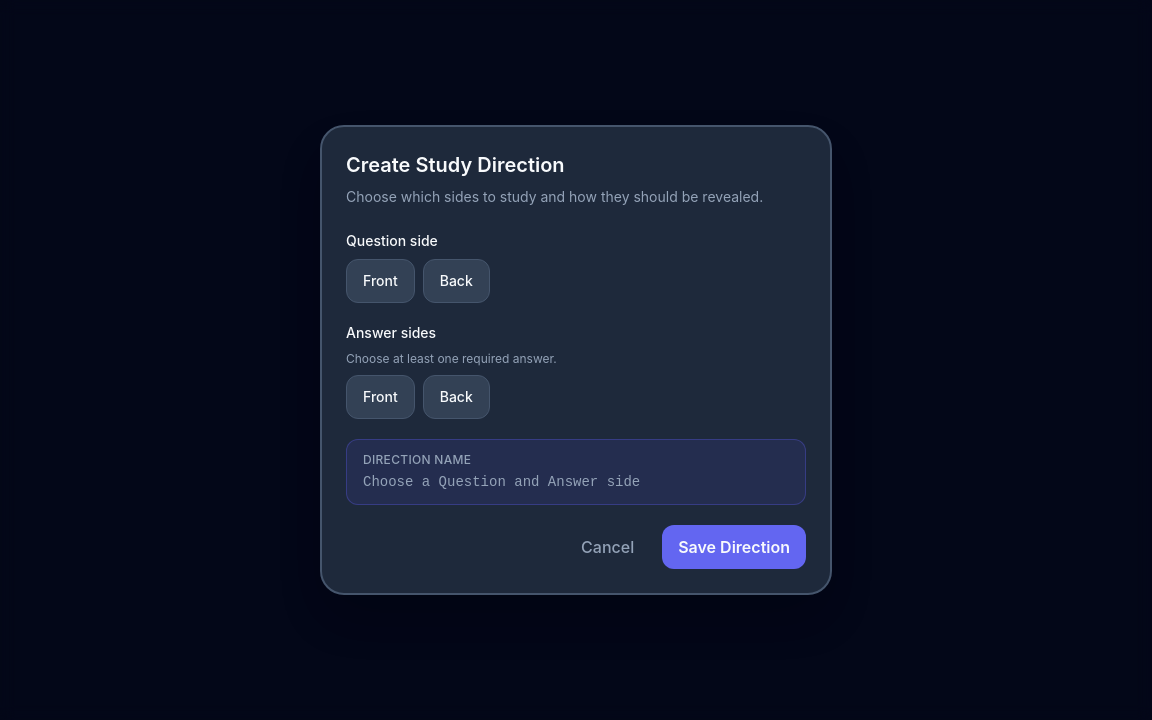
Scenario: DirectionDefinition › automatically selects the other side as Answer for a two-sided deck
This screenshot has width=1152, height=720.
Step 1. Click the button "Front" below "Question side" → x=380, y=281, box left=346, top=259, right=415, bottom=303
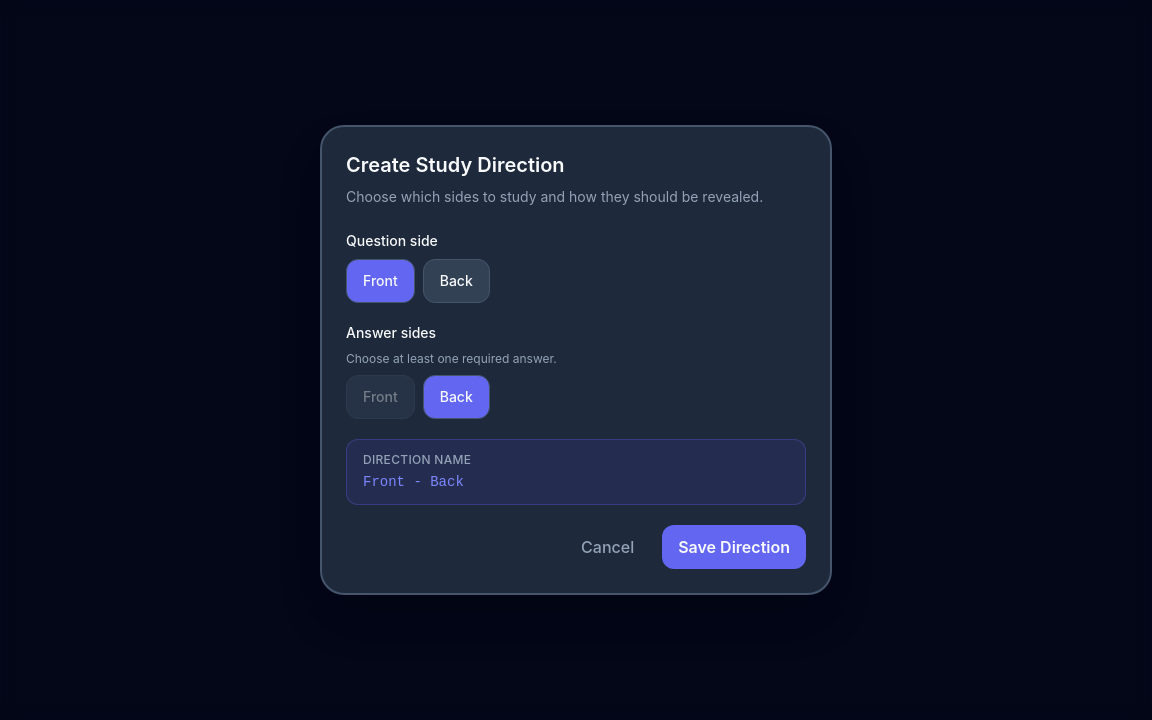
Now the text "Front - Back" is shown, box left=363, top=474, right=464, bottom=490
Step 2. Click the button "Back" below "Question side" → x=456, y=281, box left=423, top=259, right=490, bottom=303
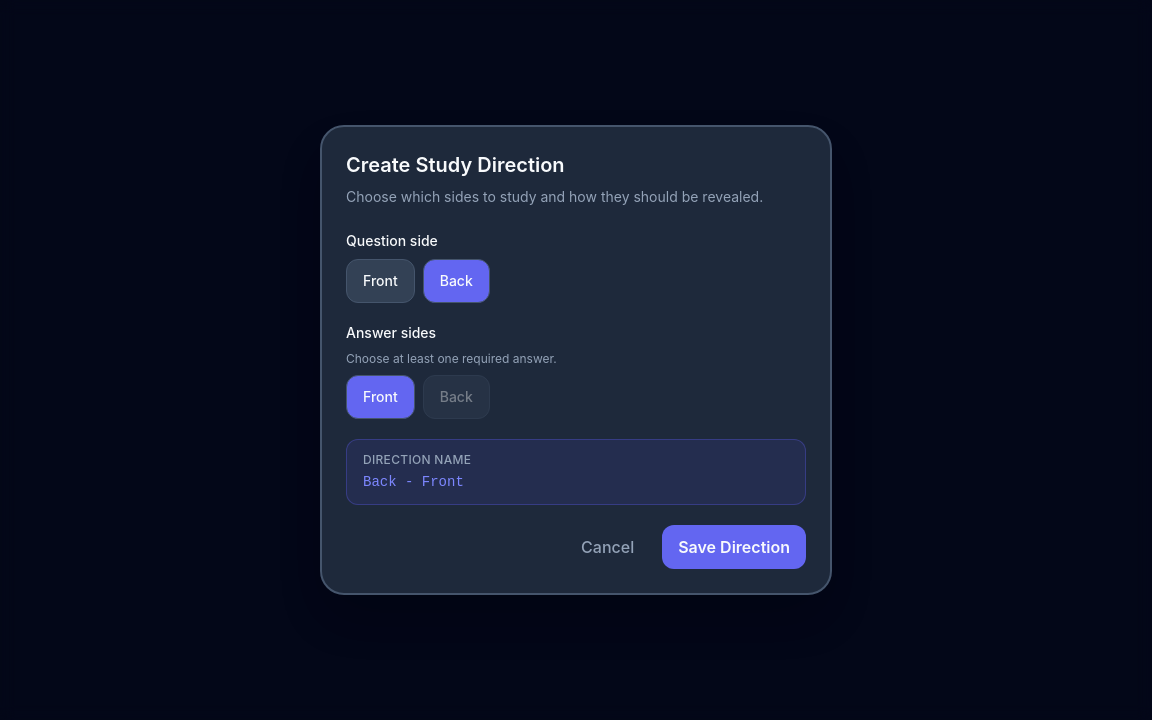
Now the text "Back - Front" is shown, box left=363, top=474, right=464, bottom=490
